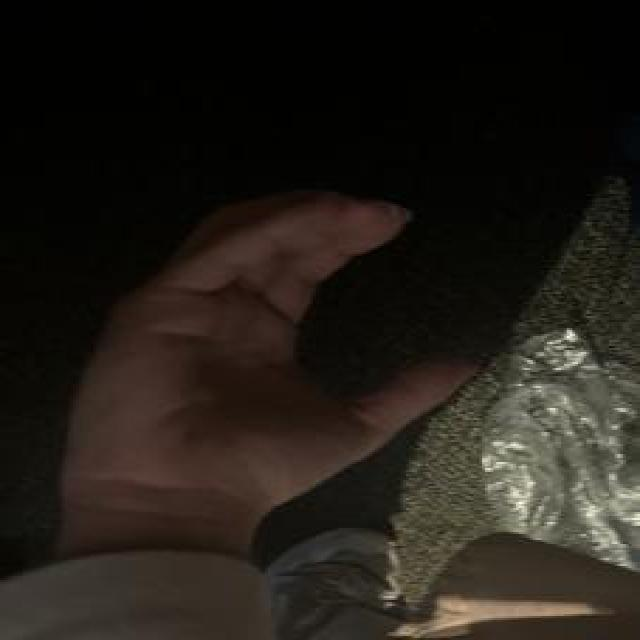C: (54, 187, 485, 513)
